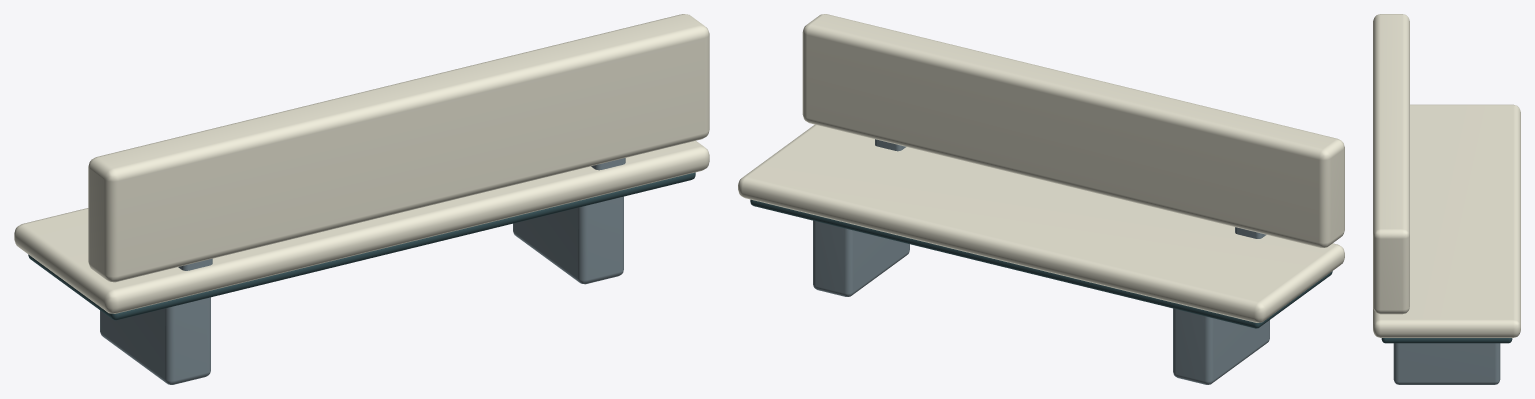
The model's file is city_seating_01.glb.
3 renders of one model, left to right at view 1: azimuth 30°, elevation 25°; view 2: azimuth 150°, elevation 25°; view 3: azimuth 270°, elevation 25°, orthographic. The views are drawn at different scales.
Visible parts, largest first — view 1: CitySeating01_Mesh; view 2: CitySeating01_Mesh; view 3: CitySeating01_Mesh.
Boxes of the visible parts, x1,y1,x2,y2 form: CitySeating01_Mesh: [14, 14, 709, 384]; CitySeating01_Mesh: [738, 14, 1344, 384]; CitySeating01_Mesh: [1373, 14, 1520, 384].
Bounding box in the file's own units: 2.4 × 0.92 × 0.68.
